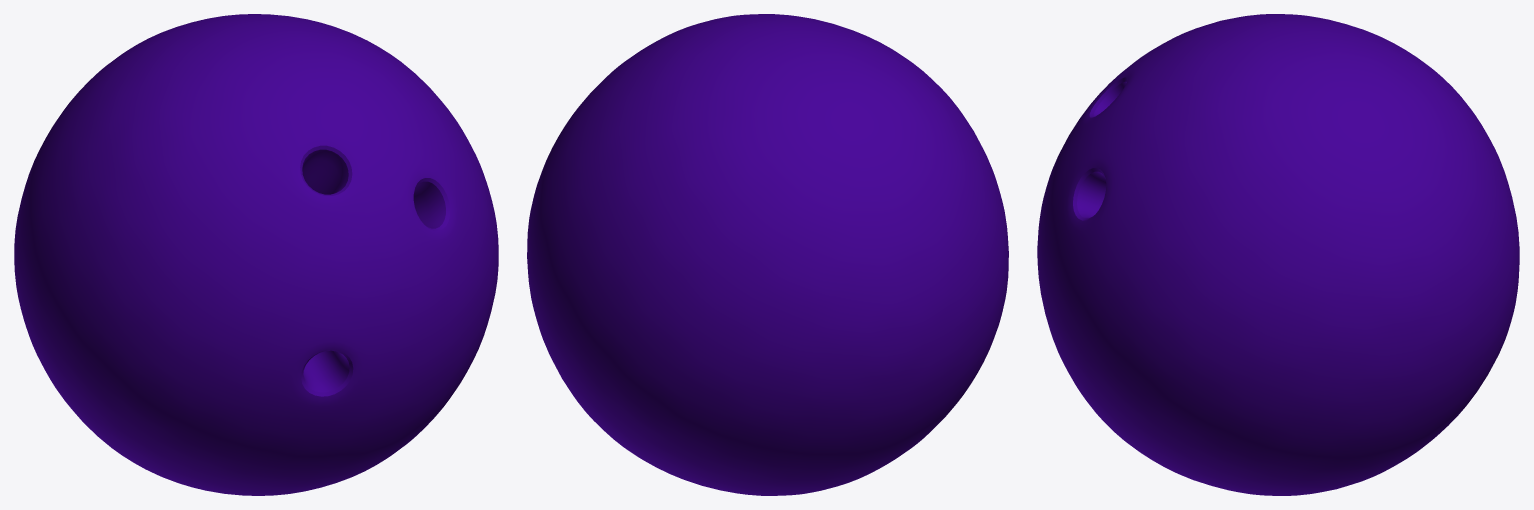
Rendered from Ball.fbx.
3 renders of one model, left to right at view 1: azimuth 30°, elevation 25°; view 2: azimuth 150°, elevation 25°; view 3: azimuth 270°, elevation 25°, orthographic.
Parts seen in each view (by area): view 1: Icosphere; view 2: Icosphere; view 3: Icosphere.
Part boxes in pixels (bbox=[...]): Icosphere: bbox=[14, 14, 498, 495]; Icosphere: bbox=[527, 14, 1008, 495]; Icosphere: bbox=[1037, 14, 1519, 495].
Size of the model in its own units: 215 by 215 by 216.
